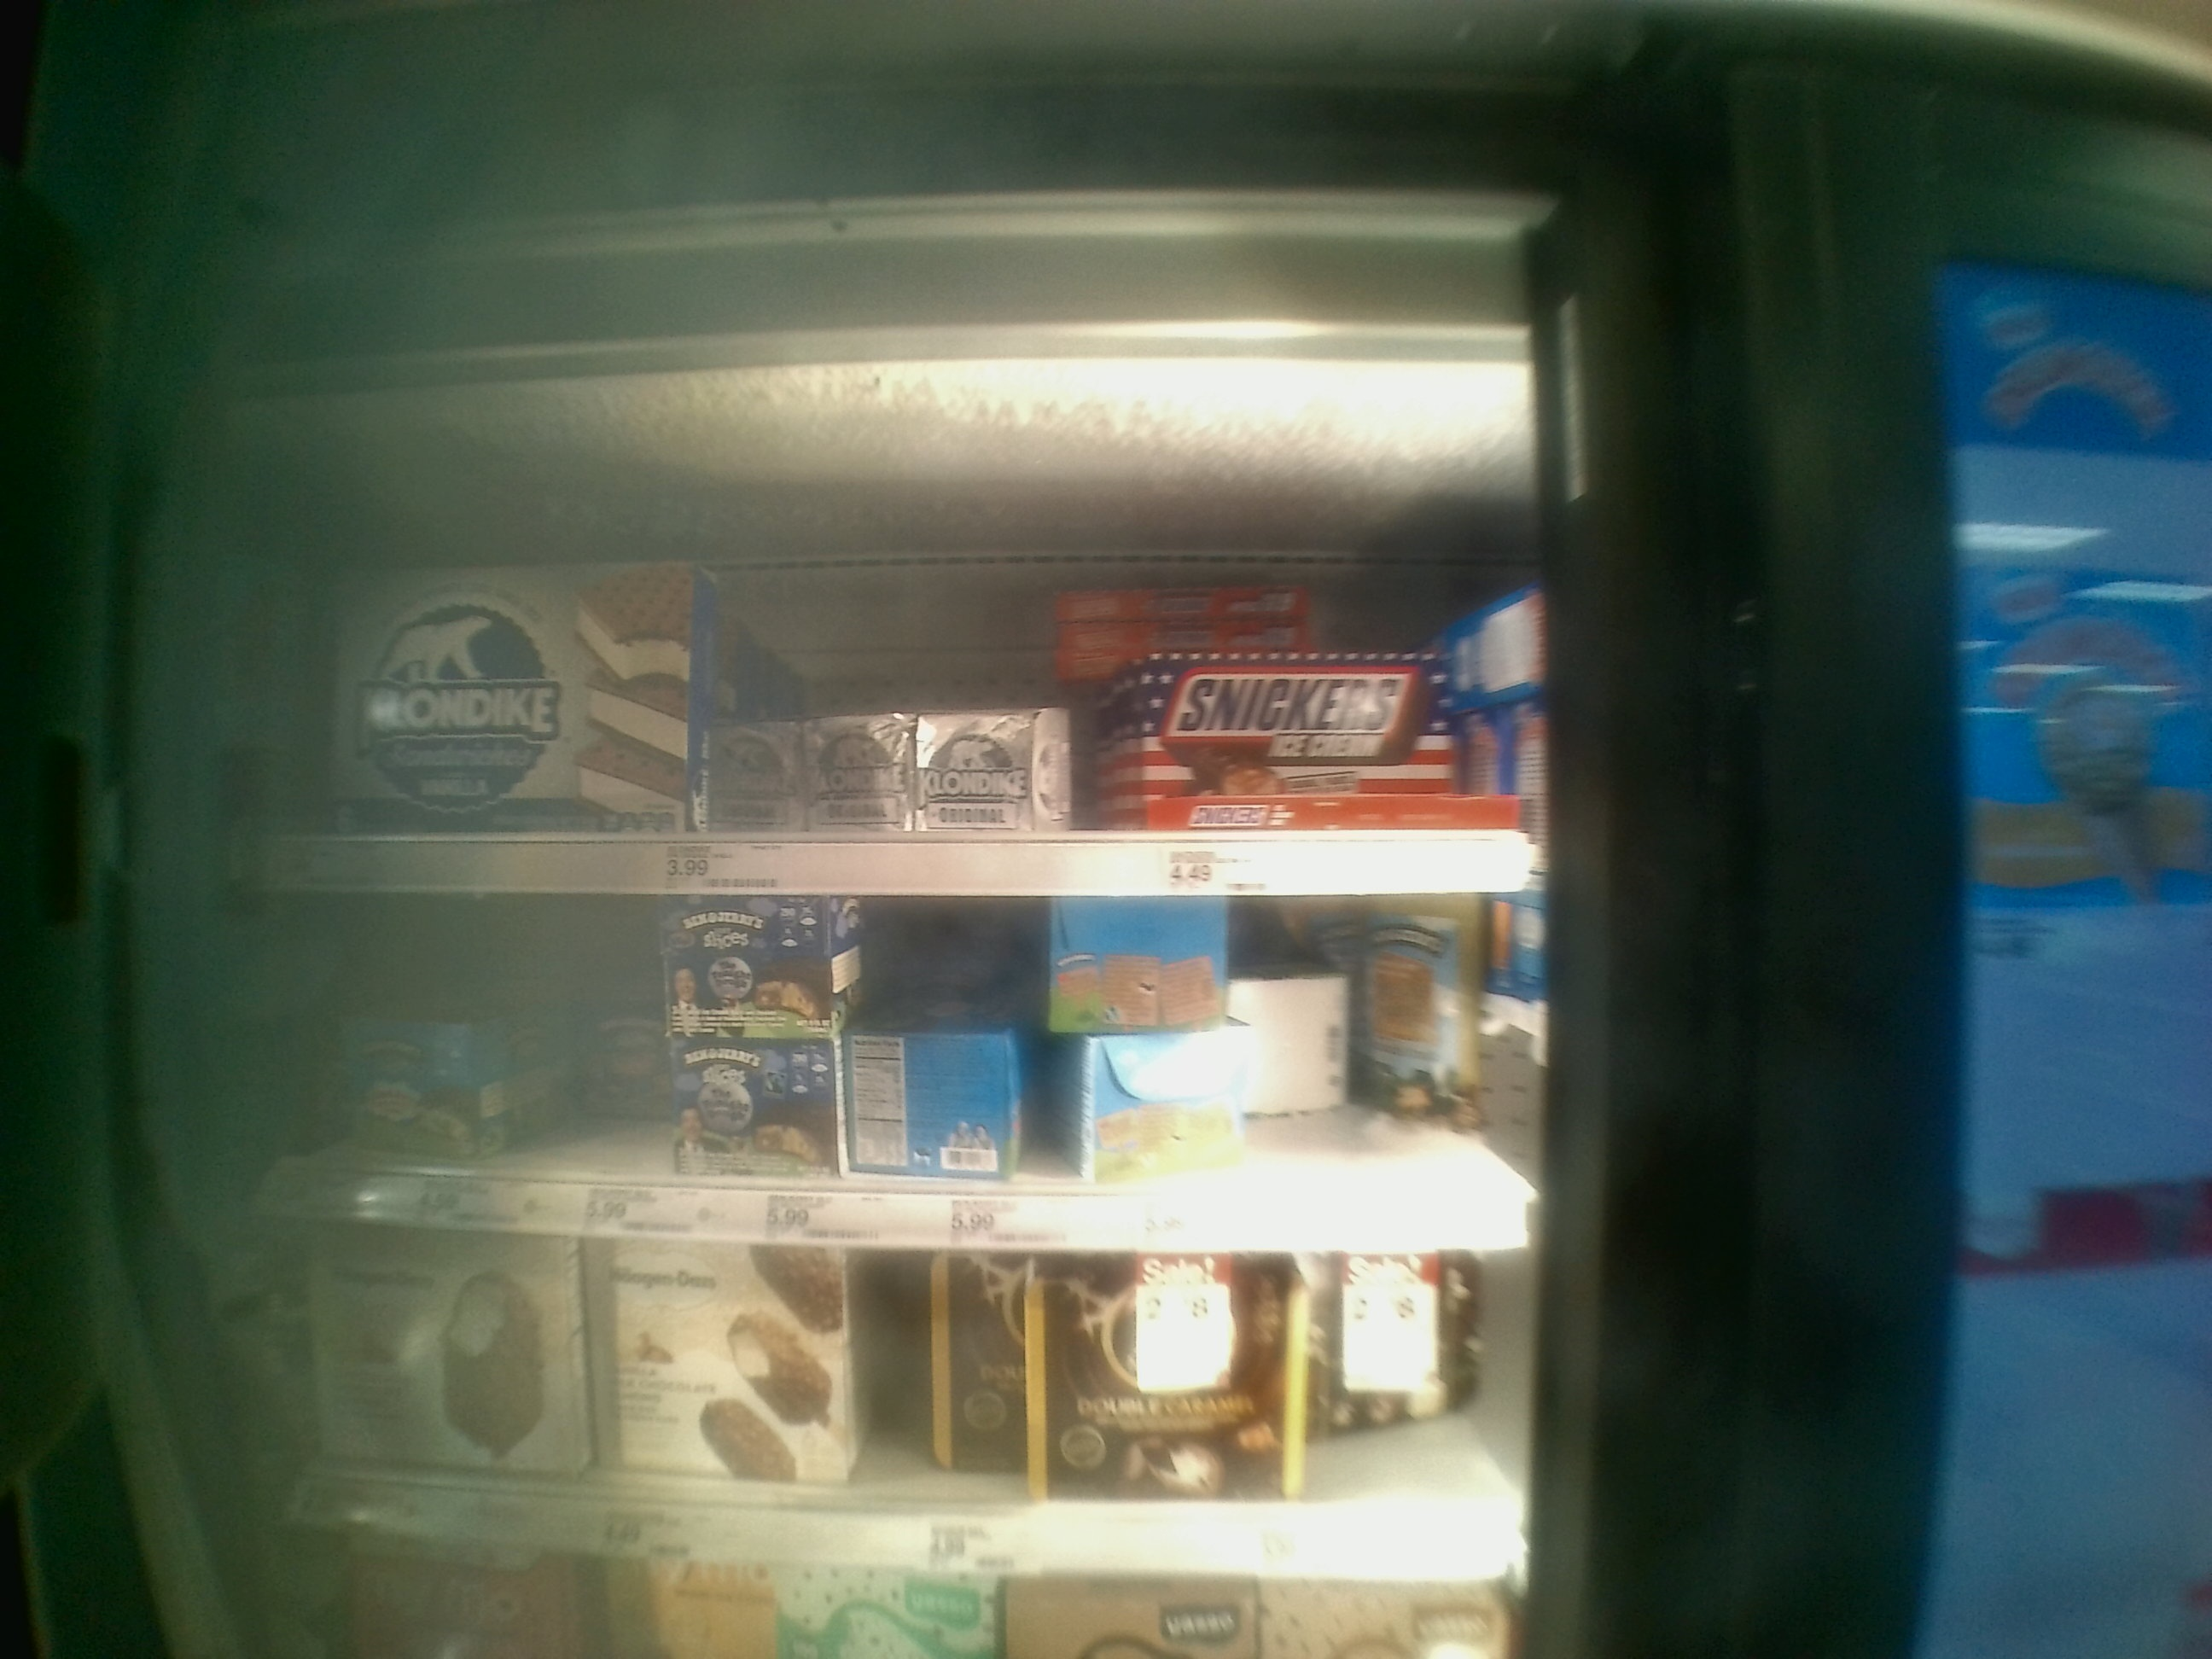shelf: (254, 471, 1529, 892), (251, 878, 1554, 1256), (263, 1225, 1555, 1570)
